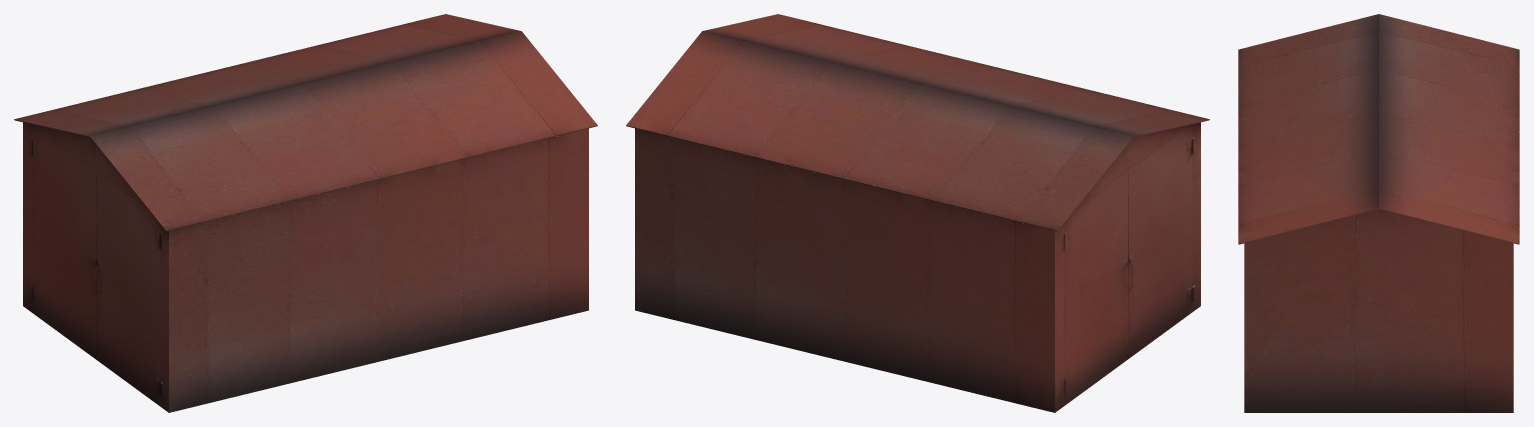
File: sibir_garaz1.fbx
3 renders of one model, left to right at view 1: azimuth 30°, elevation 25°; view 2: azimuth 150°, elevation 25°; view 3: azimuth 270°, elevation 25°, orthographic. The views are drawn at different scales.
Visible parts, largest first — view 1: Box001; view 2: Box001; view 3: Box001.
Boxes of the visible parts, x1,y1,x2,y2 form: Box001: (14, 14, 597, 412); Box001: (626, 14, 1209, 412); Box001: (1238, 14, 1519, 412).
Bounding box in the file's own units: 4.75 × 2.36 × 2.9.
Materials: 1 (1 with a texture image).
